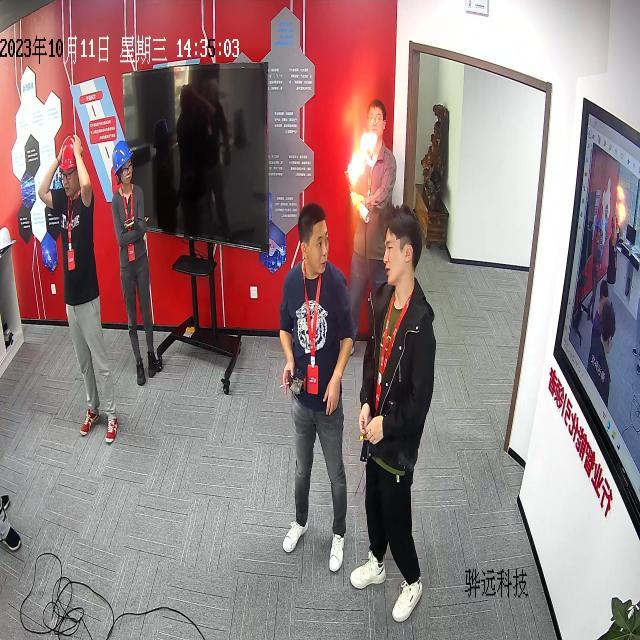Fire: (346, 130, 376, 183)
